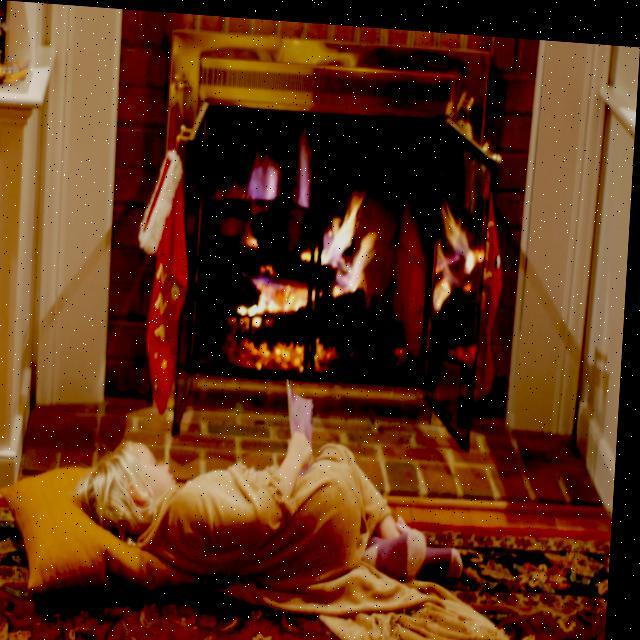Fire: (222, 92, 388, 378), (426, 191, 490, 312)
